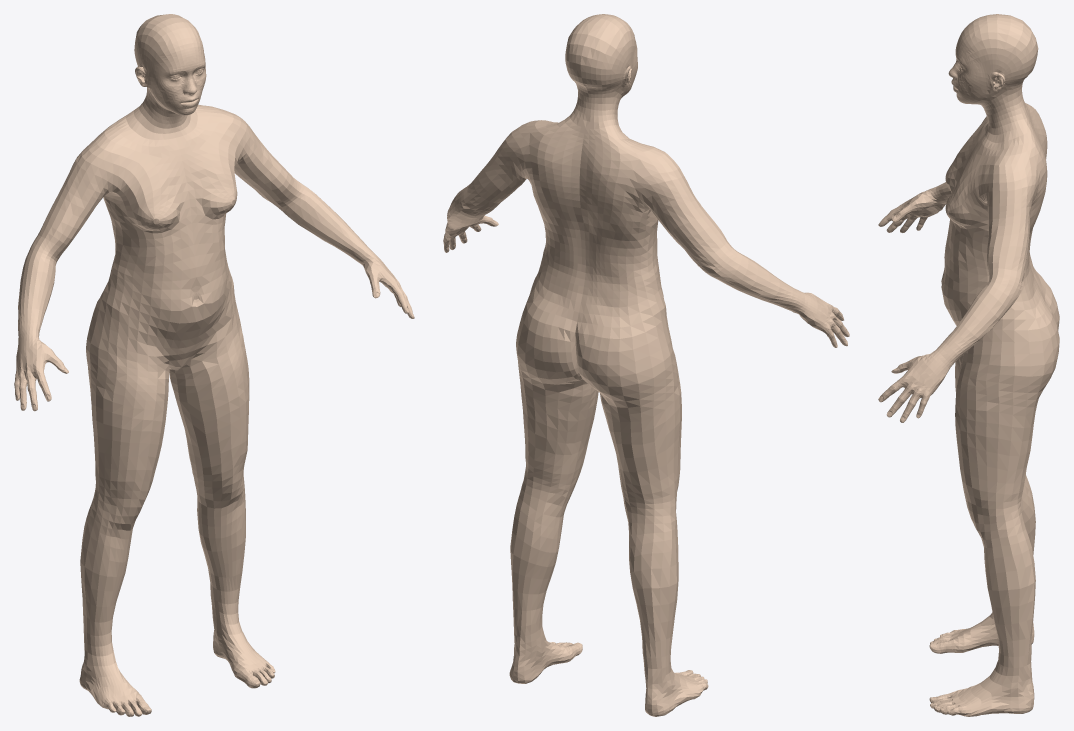
File: female-young-max-medium.glb
The picture shows the model from 3 angles, left to right: view 1: azimuth 30°, elevation 25°; view 2: azimuth 150°, elevation 25°; view 3: azimuth 270°, elevation 25°; orthographic projection.
Visible parts, largest first — view 1: world; view 2: world; view 3: world.
Boxes of the visible parts, x1=… form: world: x1=14, y1=14, x2=414, y2=716; world: x1=443, y1=14, x2=849, y2=716; world: x1=878, y1=14, x2=1059, y2=716.
Size of the model in its own units: 1.09 by 1.76 by 0.4355.
